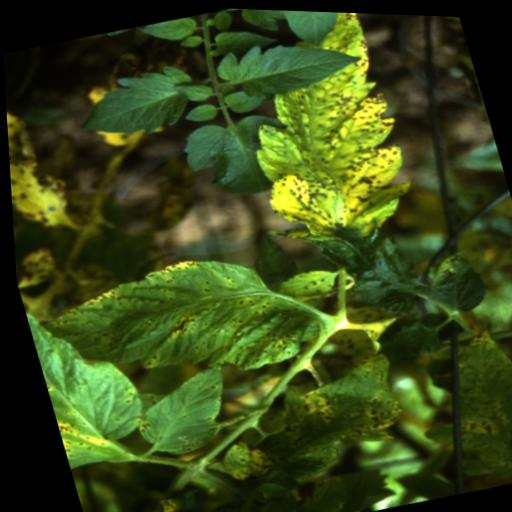Healthy: (209, 18, 369, 109), (64, 54, 205, 149), (170, 105, 297, 210), (277, 8, 357, 52)
Septoria: (209, 6, 433, 282), (28, 226, 335, 414), (238, 342, 414, 490), (20, 293, 154, 474), (423, 311, 512, 485), (114, 353, 238, 463), (5, 101, 77, 241), (269, 260, 337, 302)
